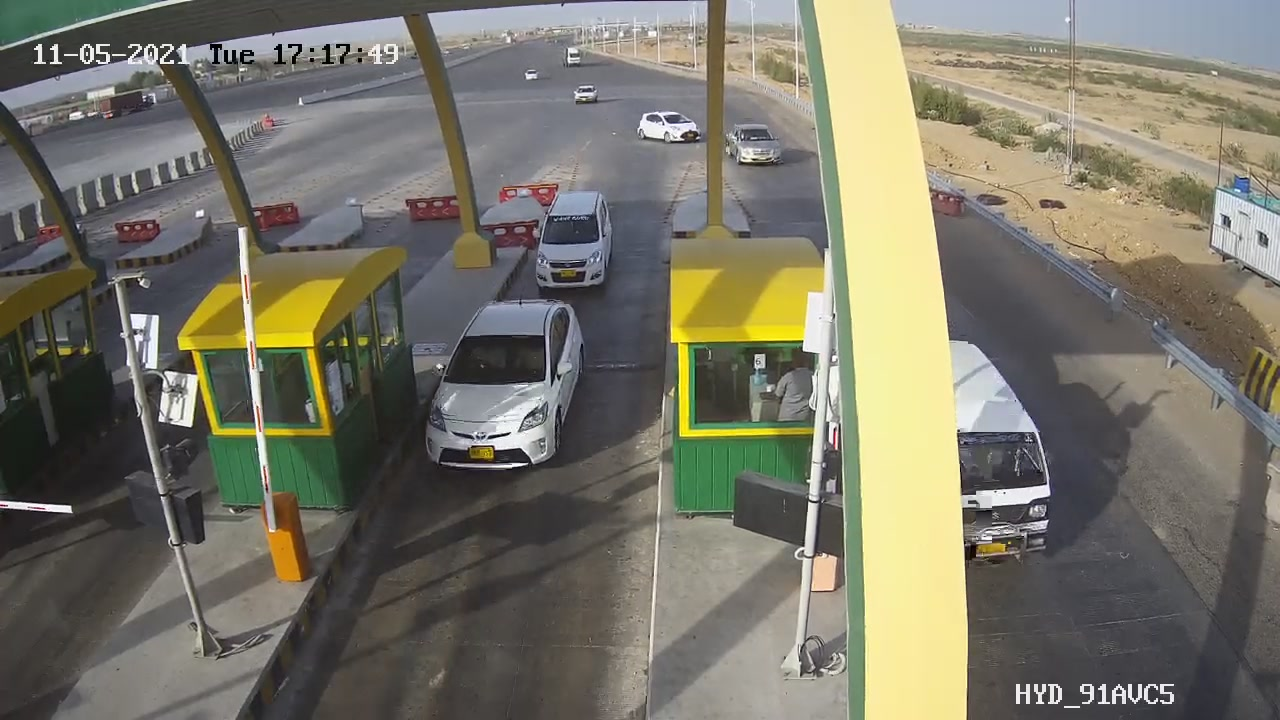F1: (409, 285, 603, 485), (522, 182, 629, 298)
